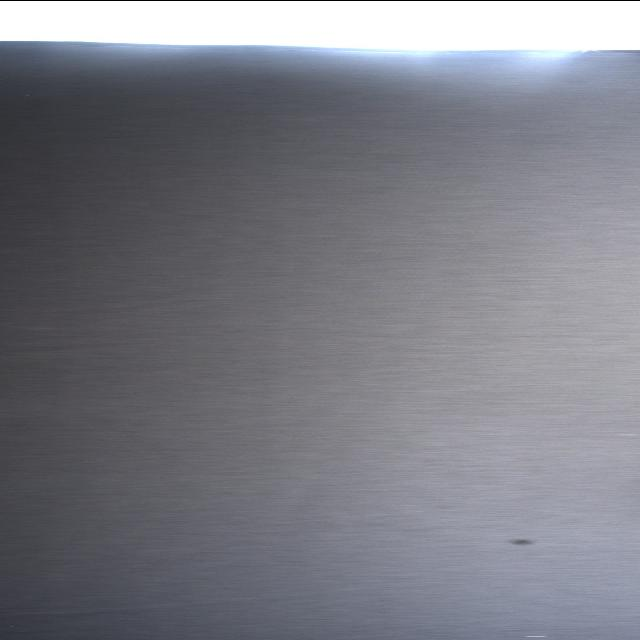crease: (0, 588, 363, 616)
whiteDefect: (522, 633, 555, 637)
